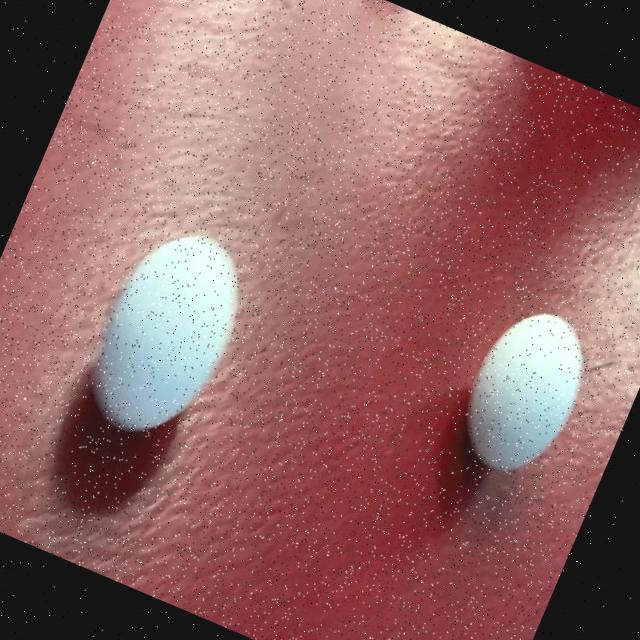ping-pong-ball: (66, 210, 264, 464), (440, 287, 606, 491)
